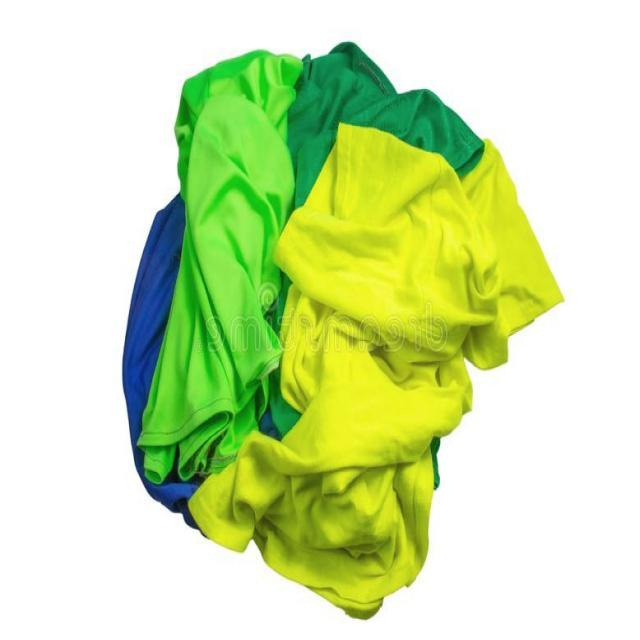clothes: (80, 32, 554, 614)
